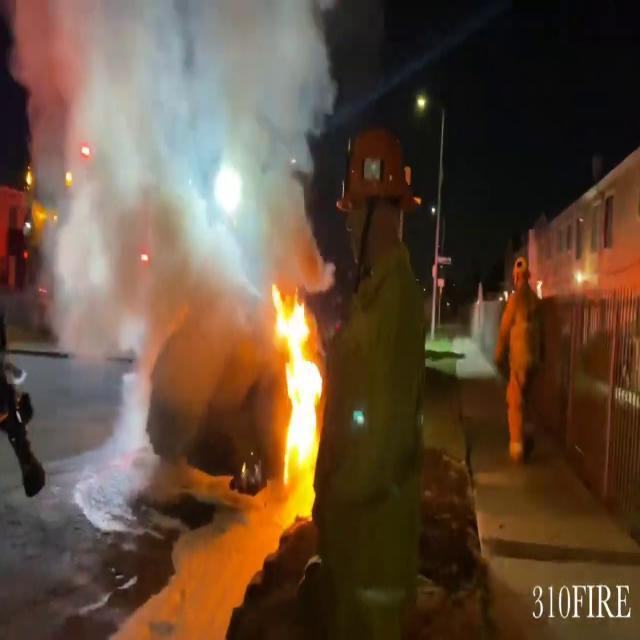Fire: (268, 278, 328, 511)
Smoke: (8, 0, 338, 324)
